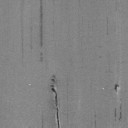slag inclusion: (50, 74, 61, 126), (39, 0, 44, 48), (114, 84, 119, 92), (119, 110, 122, 120), (115, 110, 117, 120)
